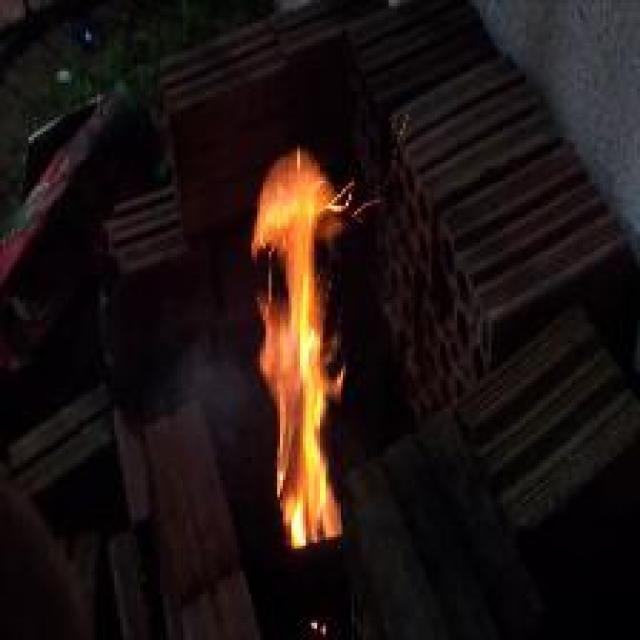Fire: (254, 147, 354, 553)
